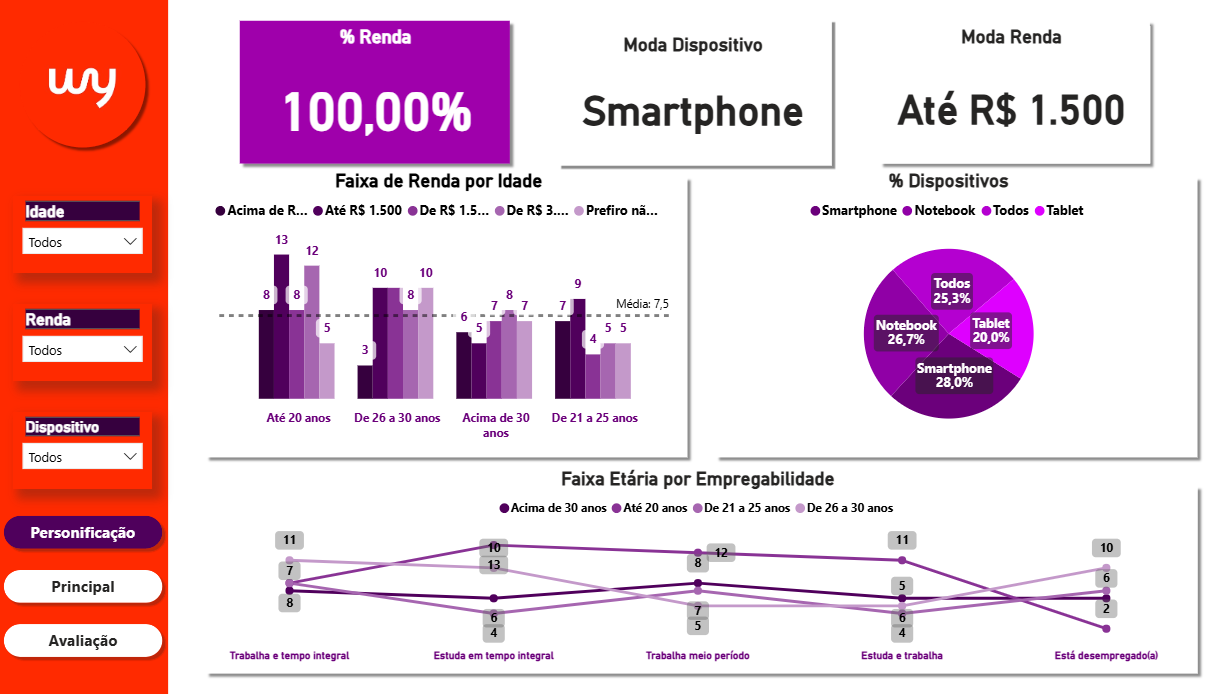

The dashboard page shown, as its layout file describes it:
{"tool":"powerbi","page":{"name":"Personificação","canvas":[1280,720],"ordinal":0},"visuals":[{"type":"shape","box":[0,0,176,720],"z":0},{"type":"shape","box":[243.3,14.8,293.3,161.7],"z":1000},{"type":"shape","box":[574.3,14.8,293.3,161.7],"z":2000},{"type":"shape","box":[736,176,512,304],"z":3000},{"type":"shape","box":[905.4,14.8,293.3,161.7],"z":4000},{"type":"group","id":"g1","title":"Grupo 1","box":[16,16,144,144],"z":5000},{"type":"card","title":"Moda Renda","fields":{"Values":["Sheet1.ModaFaixaRenda"]},"box":[905.3,26.5,286.7,141.7],"z":6000},{"type":"card","title":"% Renda","fields":{"Values":["Sheet1.PorcentagemRendaGeral"]},"box":[252,26.5,276.7,141.7],"z":7000},{"type":"card","title":"Moda Dispositivo","fields":{"Values":["Sheet1.ModaDispositivo"]},"box":[578.6,34.8,281.7,128.3],"z":8000},{"type":"pieChart","title":"% Dispositivos","fields":{"Category":["Sheet1.Dispositivos"],"Y":["CountNonNull(Sheet1.Dispositivos)"]},"box":[736,176,496,288],"z":9000},{"type":"shape","box":[208,176,512,304],"z":10000},{"type":"shape","box":[208,496,1040,208],"z":11000},{"type":"shape","box":[16,16,144,144],"z":11500,"group":"g1"},{"type":"image","box":[36.6,36.6,102.9,102.9],"z":12000,"group":"g1"},{"type":"lineClusteredColumnComboChart","title":"Faixa de Renda por Idade","fields":{"Category":["Sheet1.Faixa etária"],"Y":["CountNonNull(Sheet1.Faixa de renda)"],"Series":["Sheet1.Faixa de renda"]},"box":[208,176,496,288],"z":12000},{"type":"lineChart","title":"Faixa Etária por Empregabilidade","fields":{"Category":["Sheet1.Situação profissional"],"Y":["CountNonNull(Sheet1.Faixa etária)"],"Series":["Sheet1.Faixa etária"]},"box":[211.7,484,1024,208],"z":13000},{"type":"bookmarkNavigator","box":[0,528,176,160],"z":14000},{"type":"slicer","fields":{"Values":["Sheet1.Faixa etária"]},"box":[16,202.7,144,80],"z":15000},{"type":"slicer","fields":{"Values":["Sheet1.Faixa de renda"]},"box":[16,314.7,144,80],"z":15001},{"type":"slicer","fields":{"Values":["Sheet1.Dispositivos"]},"box":[16,426.7,144,80],"z":15002}]}

Visuals, with their boxes on the page's 1280x720 design canvas (x1, y1, x2, y2). These are canvas units, not pixel positions in the 1224x694 screenshot, which may show the page scaled, cropped or inside an application window:
shape: (0, 0, 176, 720)
shape: (243, 15, 537, 176)
shape: (574, 15, 868, 176)
shape: (736, 176, 1248, 480)
shape: (905, 15, 1199, 176)
"Grupo 1" group: (16, 16, 160, 160)
"Moda Renda" card: (905, 26, 1192, 168)
"% Renda" card: (252, 26, 529, 168)
"Moda Dispositivo" card: (579, 35, 860, 163)
"% Dispositivos" pieChart: (736, 176, 1232, 464)
shape: (208, 176, 720, 480)
shape: (208, 496, 1248, 704)
shape: (16, 16, 160, 160)
image: (37, 37, 140, 140)
"Faixa de Renda por Idade" lineClusteredColumnComboChart: (208, 176, 704, 464)
"Faixa Etária por Empregabilidade" lineChart: (212, 484, 1236, 692)
bookmarkNavigator: (0, 528, 176, 688)
slicer - Sheet1.Faixa etária: (16, 203, 160, 283)
slicer - Sheet1.Faixa de renda: (16, 315, 160, 395)
slicer - Sheet1.Dispositivos: (16, 427, 160, 507)
